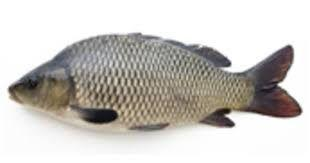Grass Carp: (8, 30, 304, 137)
